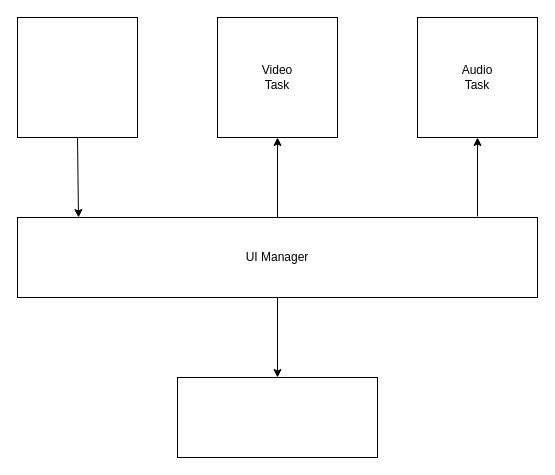
The diagram is 555 pixels wide and 475 high, and some of its shapes have lost their labels. Here are the shapes that lost their labels. From the top down, the box of each, then its label:
(16, 16, 138, 138): Keyboard Task
(176, 376, 378, 458): Arduino Interface
